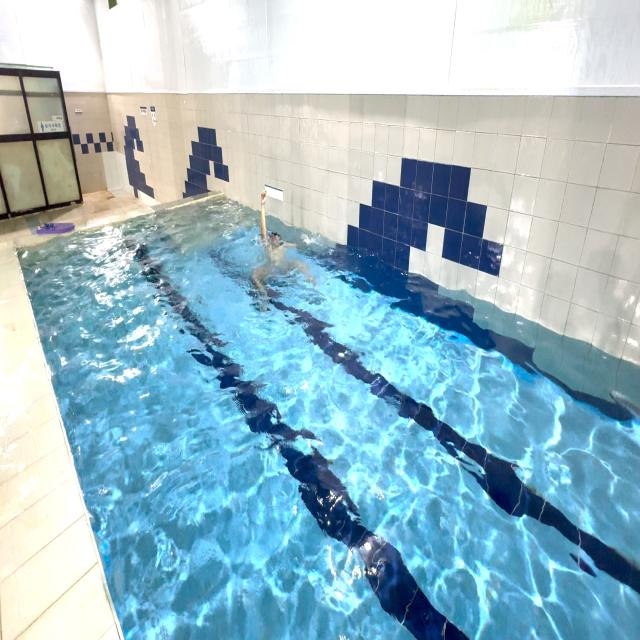Drowning: (242, 180, 320, 320)
